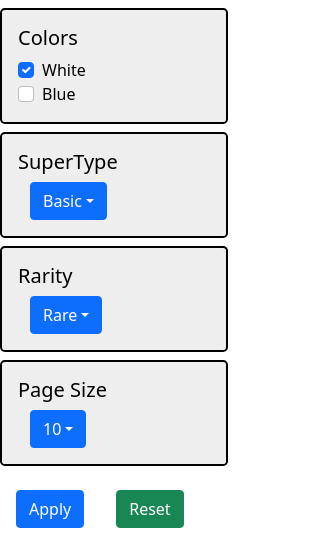
Scenario: Side panel › Reset button is working correctly
Step 1. Click the button with test id "reset-button" → point(150, 509), box x1=116 y1=490 x2=184 y2=528
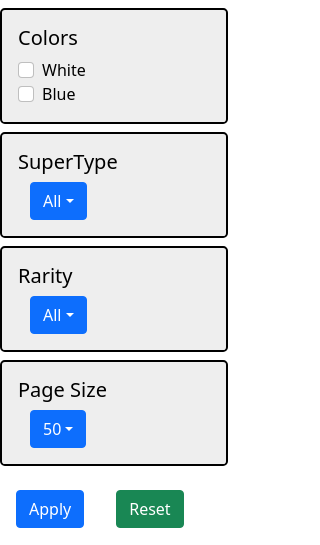
Check: the button "All" below "SuperType" is shown, box x1=30 y1=182 x2=87 y2=220
